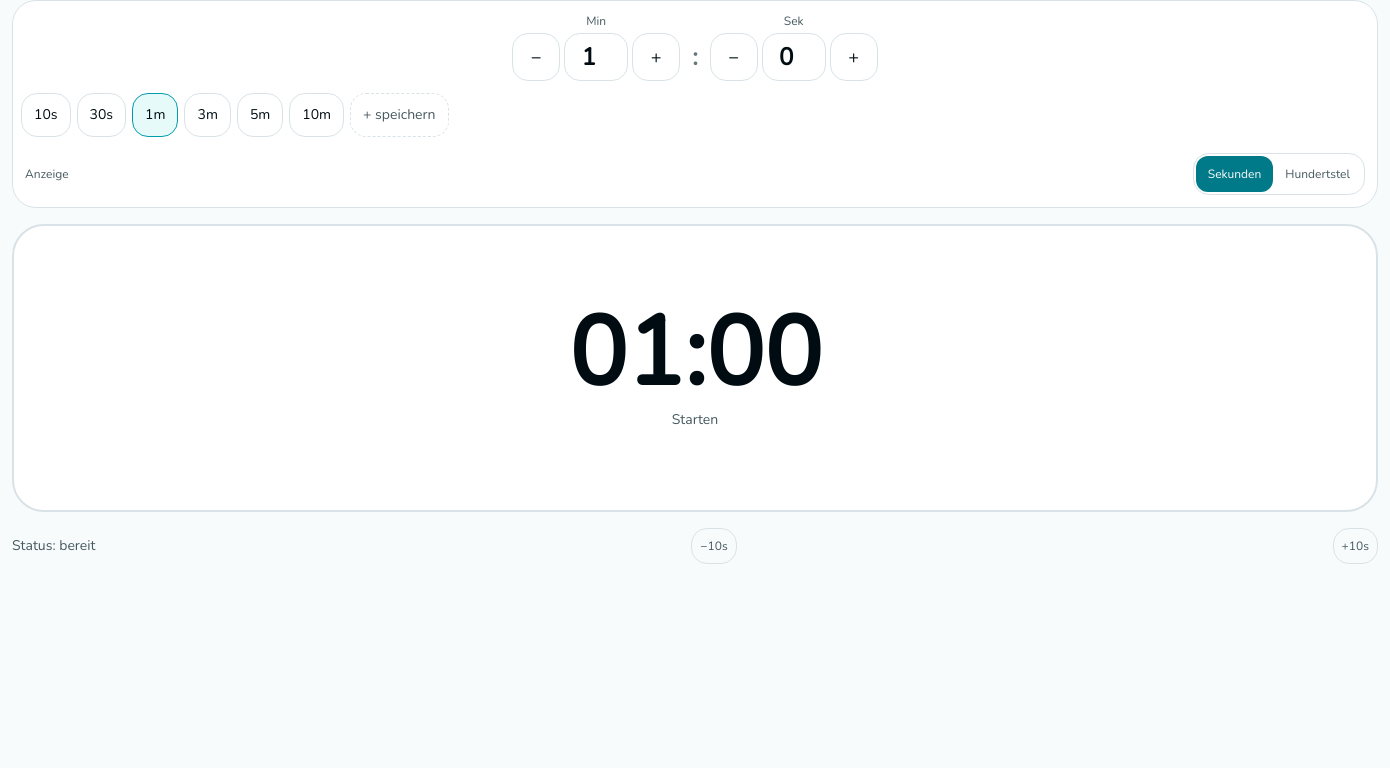
it: ClickerTimer › toggles to paused when running and tapped again
Click the button "0 1 : 0 0 Starten" at (695, 495), box [12,224,1378,512]
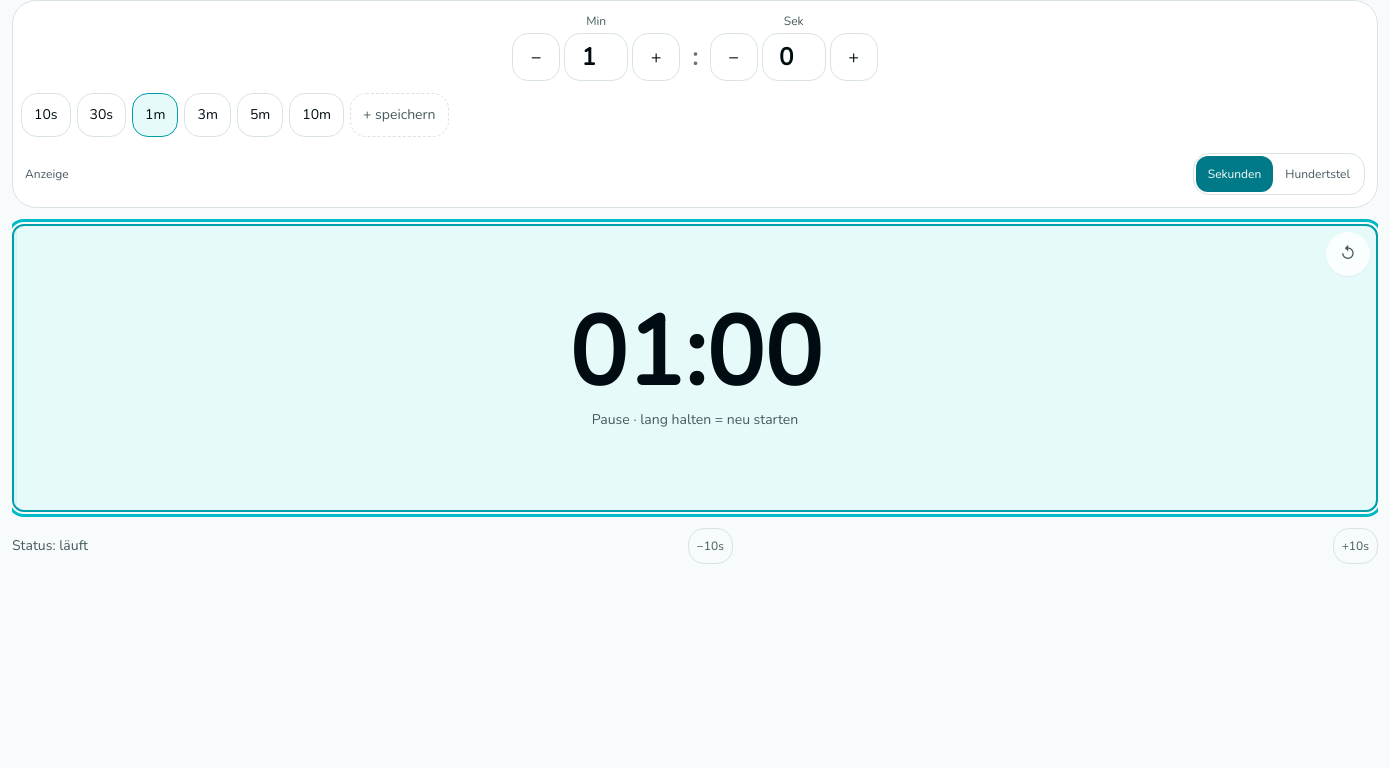
Click the button "0 1 : 0 0 Pause · lang halten = neu starten" at (695, 495), box [12,224,1378,512]
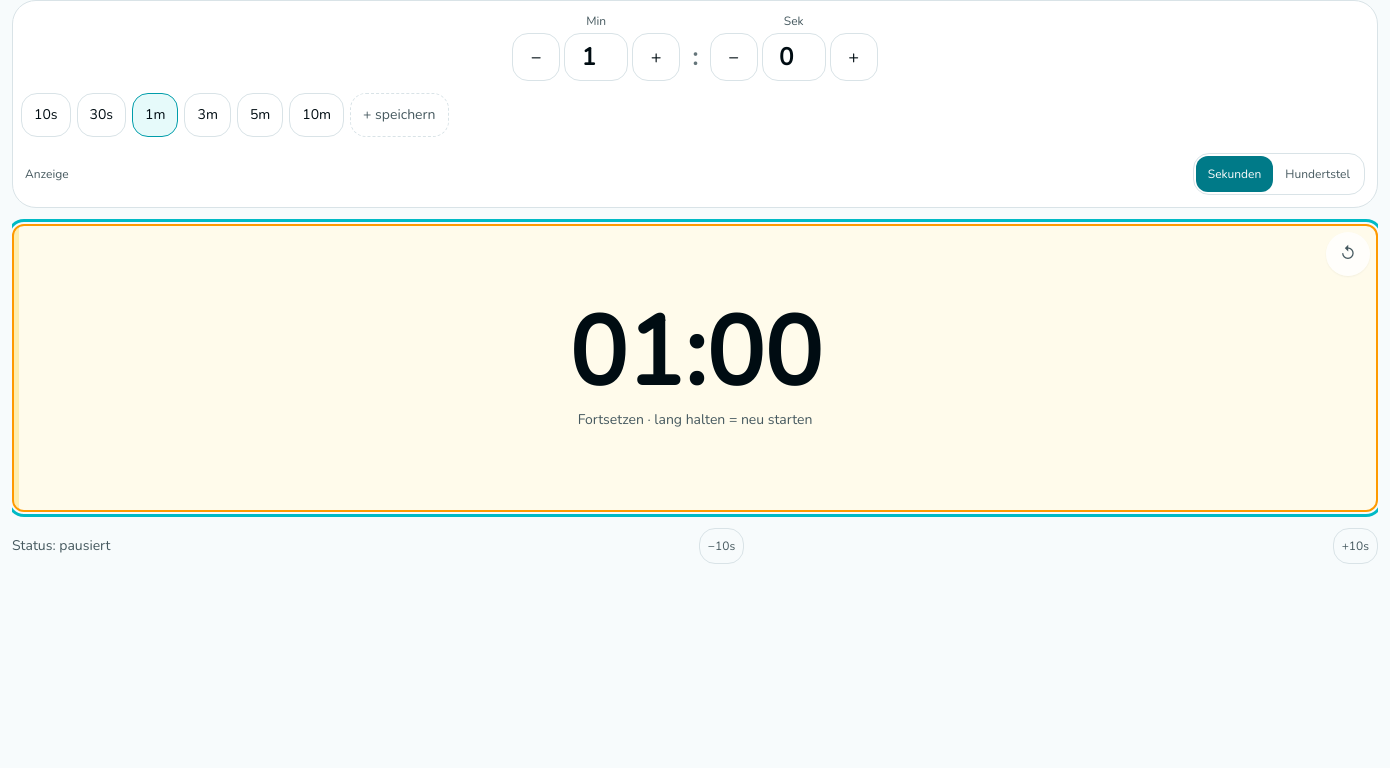
Now the text "Status: pausiert" is shown, box [12,536,110,556]
